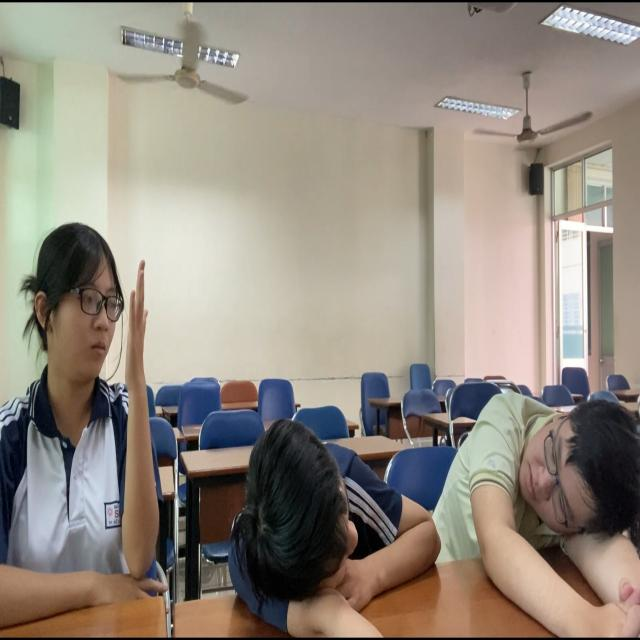raise_hand: (1, 215, 159, 640)
sleep: (439, 388, 640, 625), (223, 412, 423, 640)
